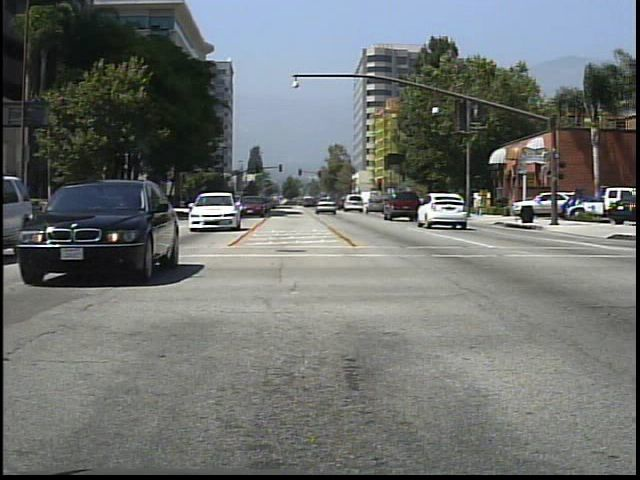person: (473, 191, 485, 218)
